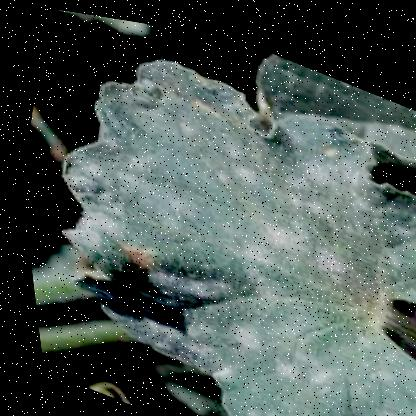PowderyMildew: (102, 88, 399, 401)
